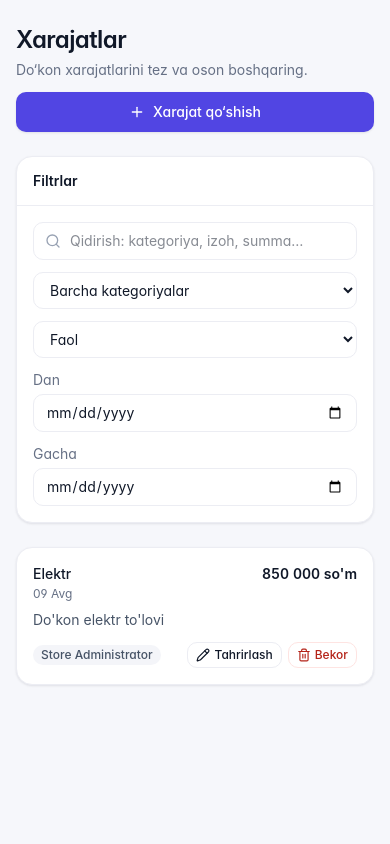
Test: ExpensesPage › opens the edit dialog with existing values prefilled
Click the button with aria-label "Tahrirlash Elektr" at (235, 655), box [188, 642, 282, 668]
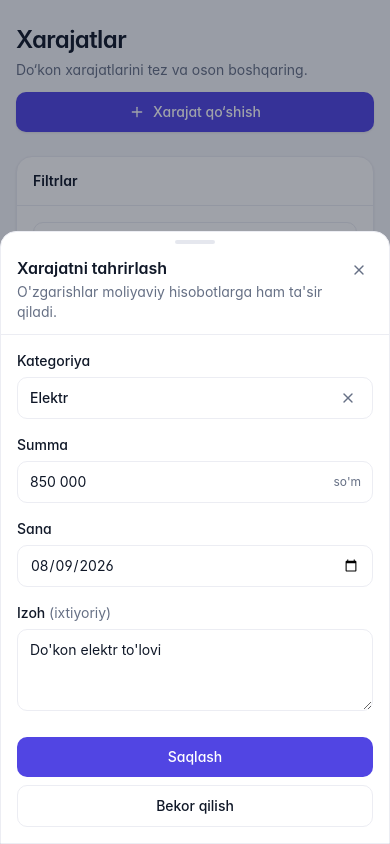
Expected: the heading "Xarajatni tahrirlash" is shown, [17, 258, 167, 278]
Expected: the text "Elektr" is shown, [30, 389, 68, 406]
Expected: the date field labelled "Sana" holds "2026-08-09", [17, 545, 373, 587]
